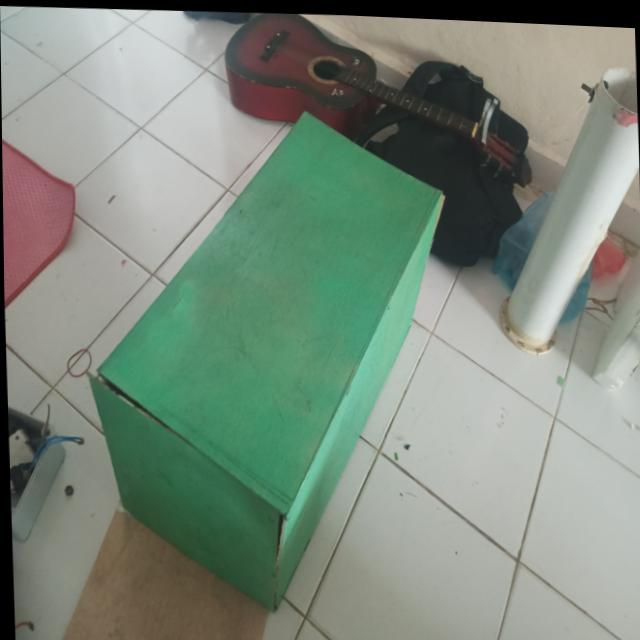green_box: (74, 59, 457, 634)
